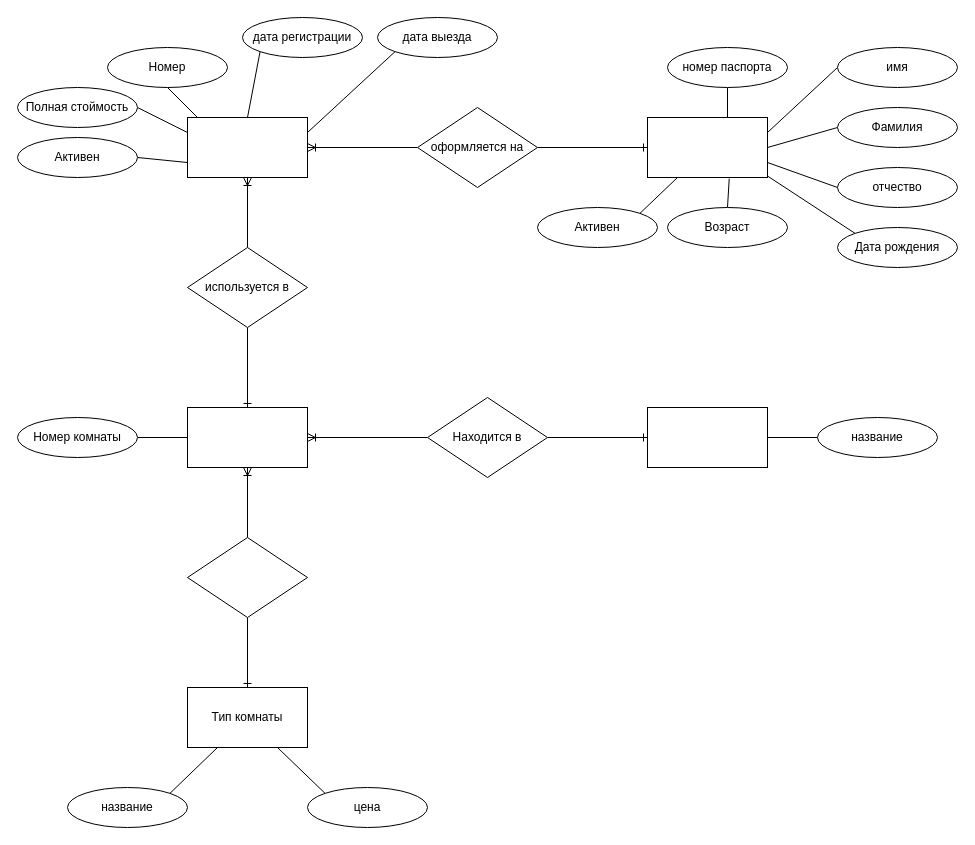
Image size: 975x845. Some labels were removed from this diagram. The shapes that lost their labels are listed below. From the top down, each one's centre as x and y in pixels, then its label:
point (247, 147): Заказ
point (707, 147): Клиент
point (247, 437): Комната
point (707, 437): Состояние
point (247, 577): является
